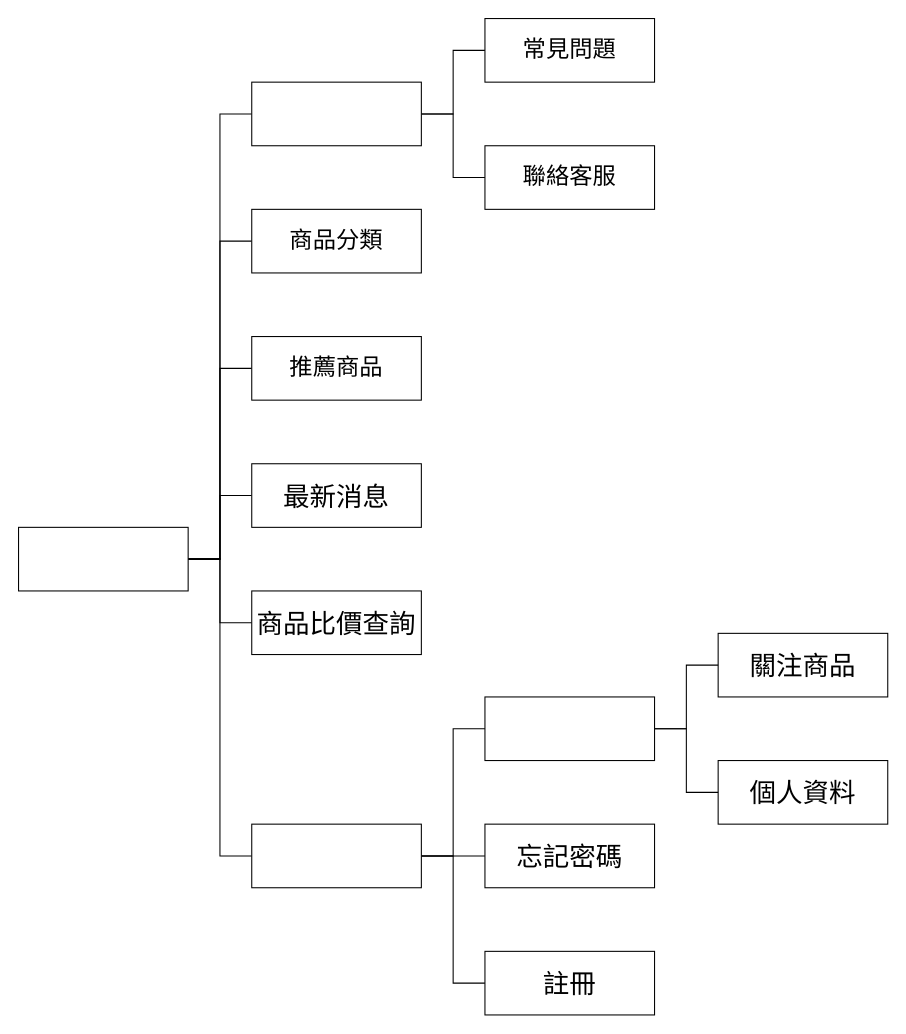
Image size: 906x1034. Some labels were removed from this diagram. Here are the shapes that lost their labels. From the top down, the centre of each, then its label:
At point (336, 113): "客服功能".
At point (102, 558): "網頁前端".
At point (569, 728): "登入".
At point (336, 855): "登入會員".
